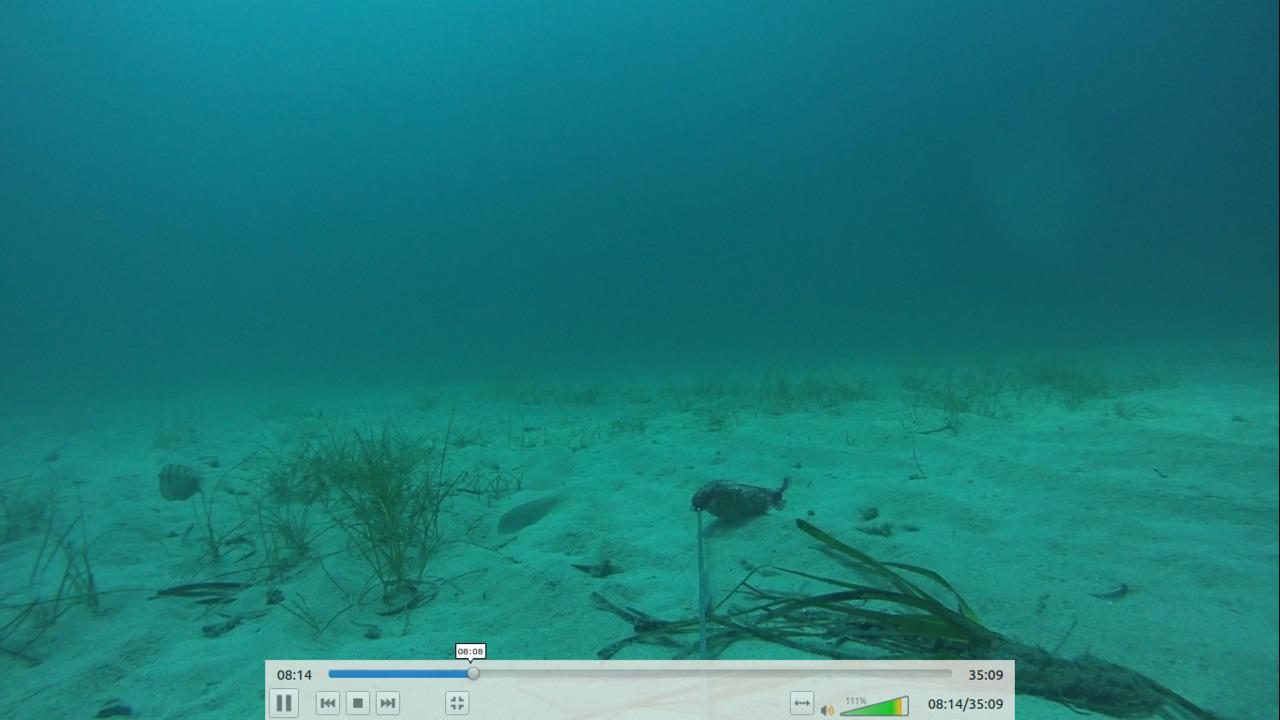raor: (490, 488, 562, 541), (149, 454, 212, 506)
